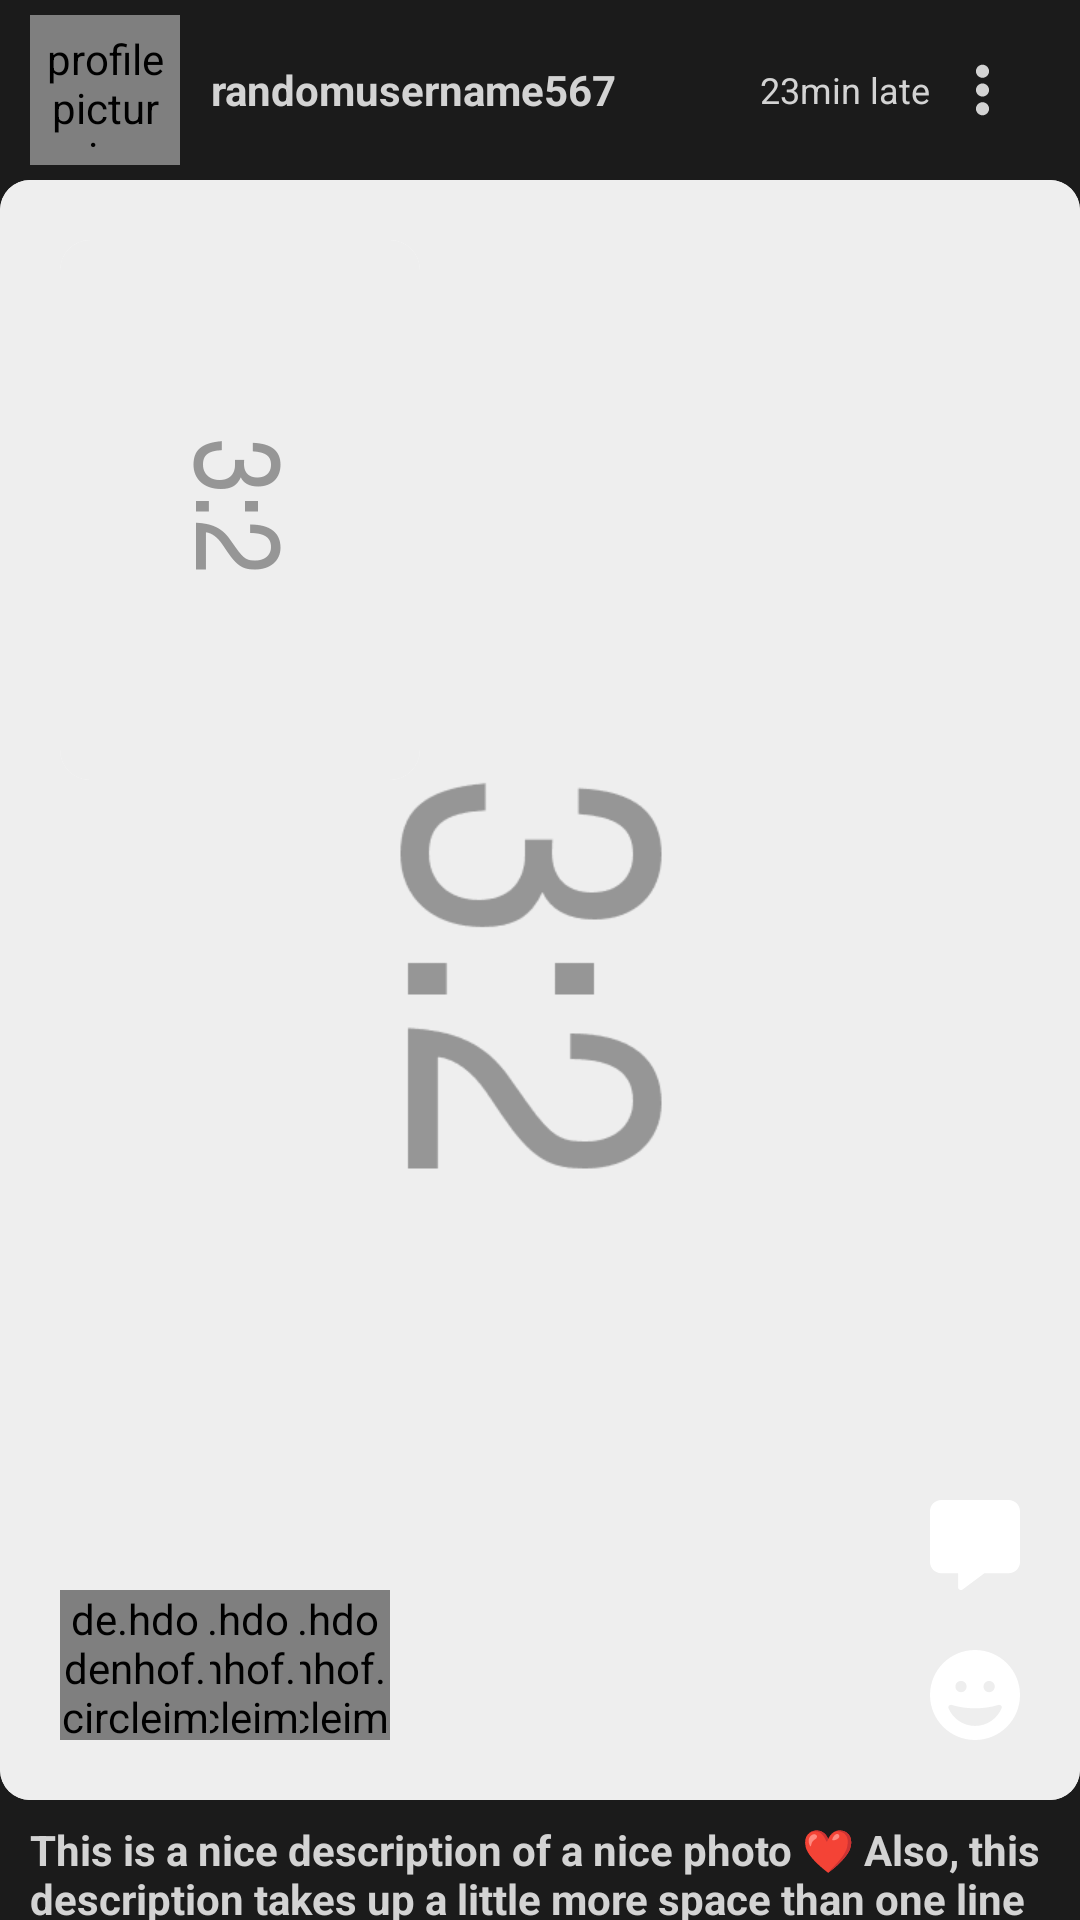

Icons on this 1080*1920 Android screen, each with the point to tap as (x=x, y=y):
settings button: (x=982, y=90)
